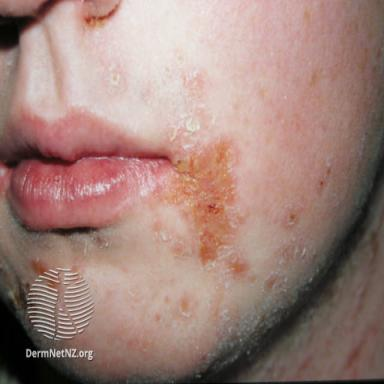Impetigo: (149, 49, 329, 381), (101, 59, 127, 93), (80, 12, 108, 34)
